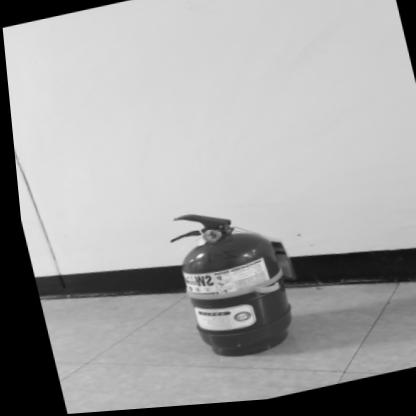FE: (157, 198, 297, 371)
